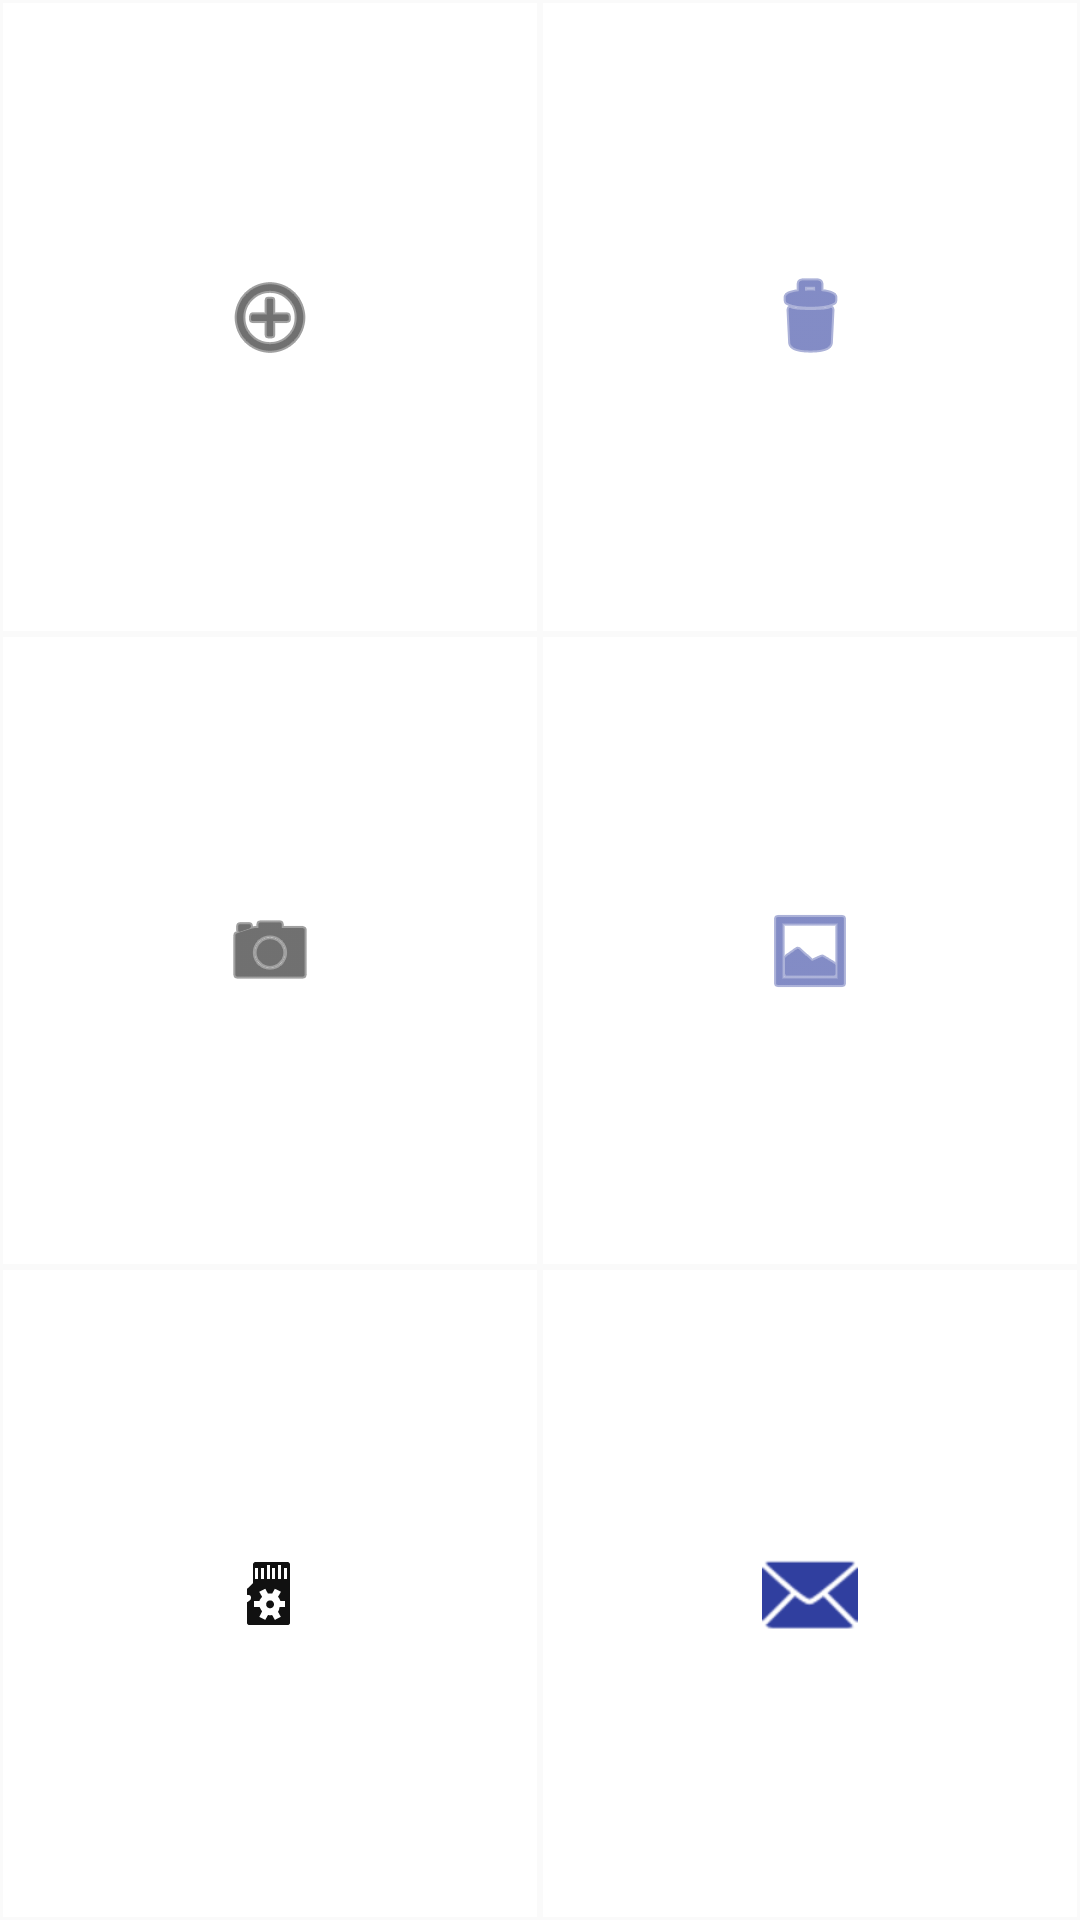

Where icons sit on this 1080px x 1920px app screen, as detection(x1, y1, x2, y2):
Añadir: detection(234, 282, 306, 353)
Borrar: detection(783, 278, 838, 353)
Camera: detection(233, 920, 307, 979)
Galeria: detection(774, 915, 846, 987)
Mensaje: detection(762, 1561, 858, 1629)
